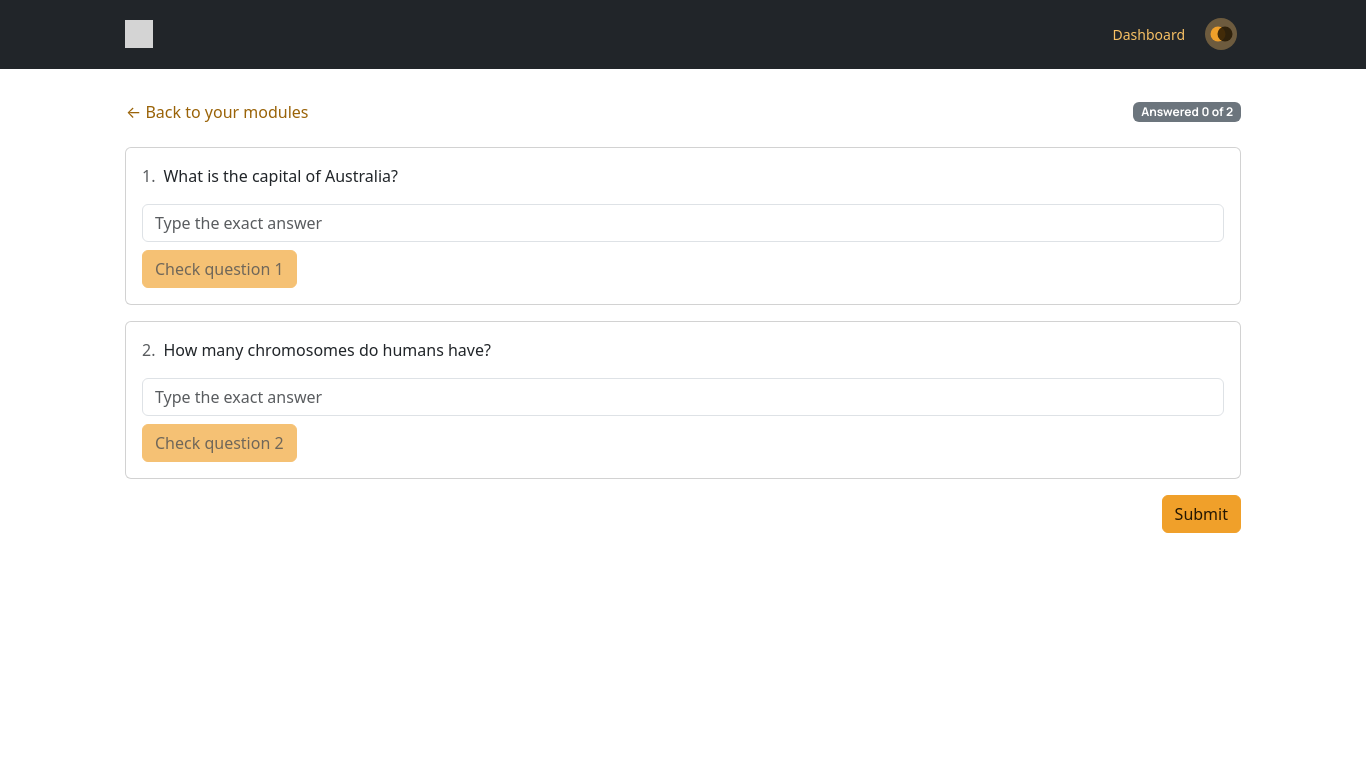
it: scoring an identification run › scores the attempt and locks the page
Expected: the text "What is the capital of Australia?" is shown, [164,165,398,187]
Type "Canberra" into the field named "Answer for question 1" at (683, 223), box [142,204,1224,242]
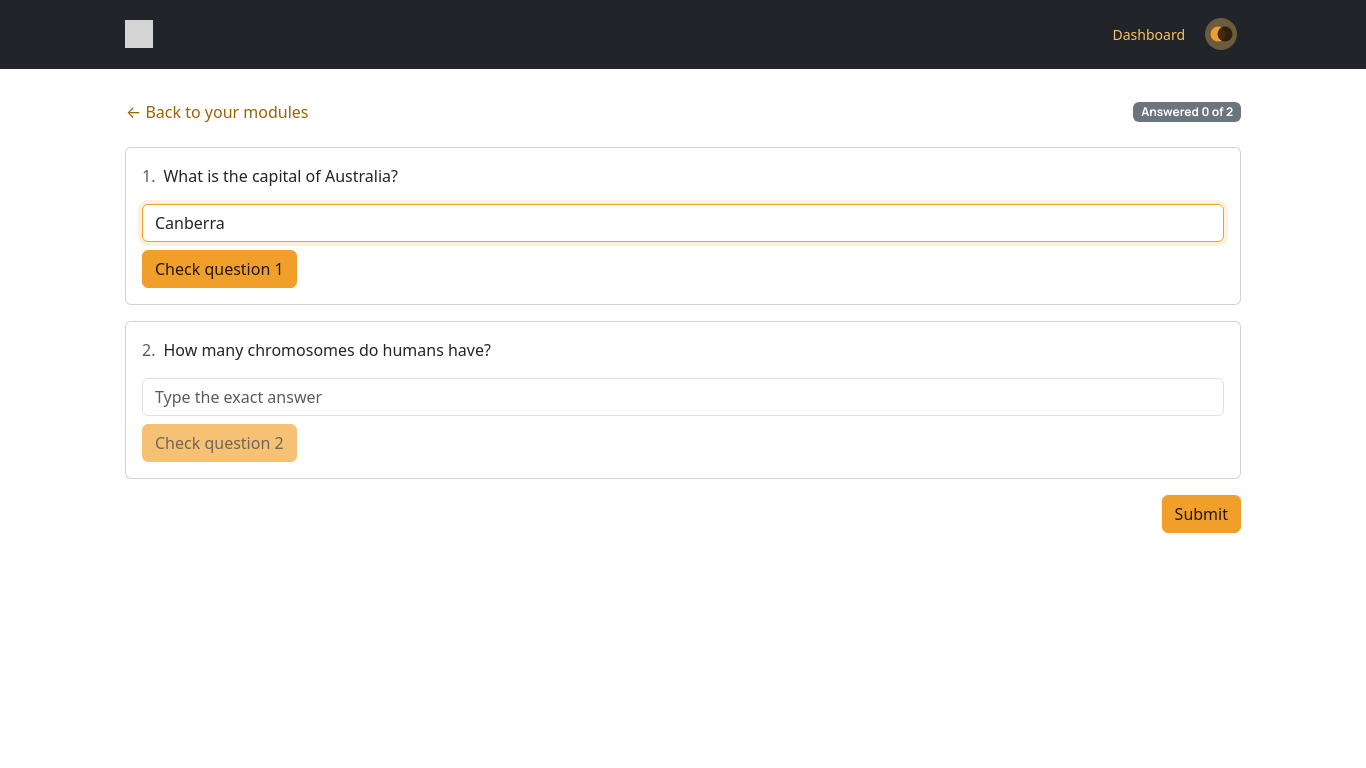
Click the button "Check question 1" at (219, 269), box [142,250,297,288]
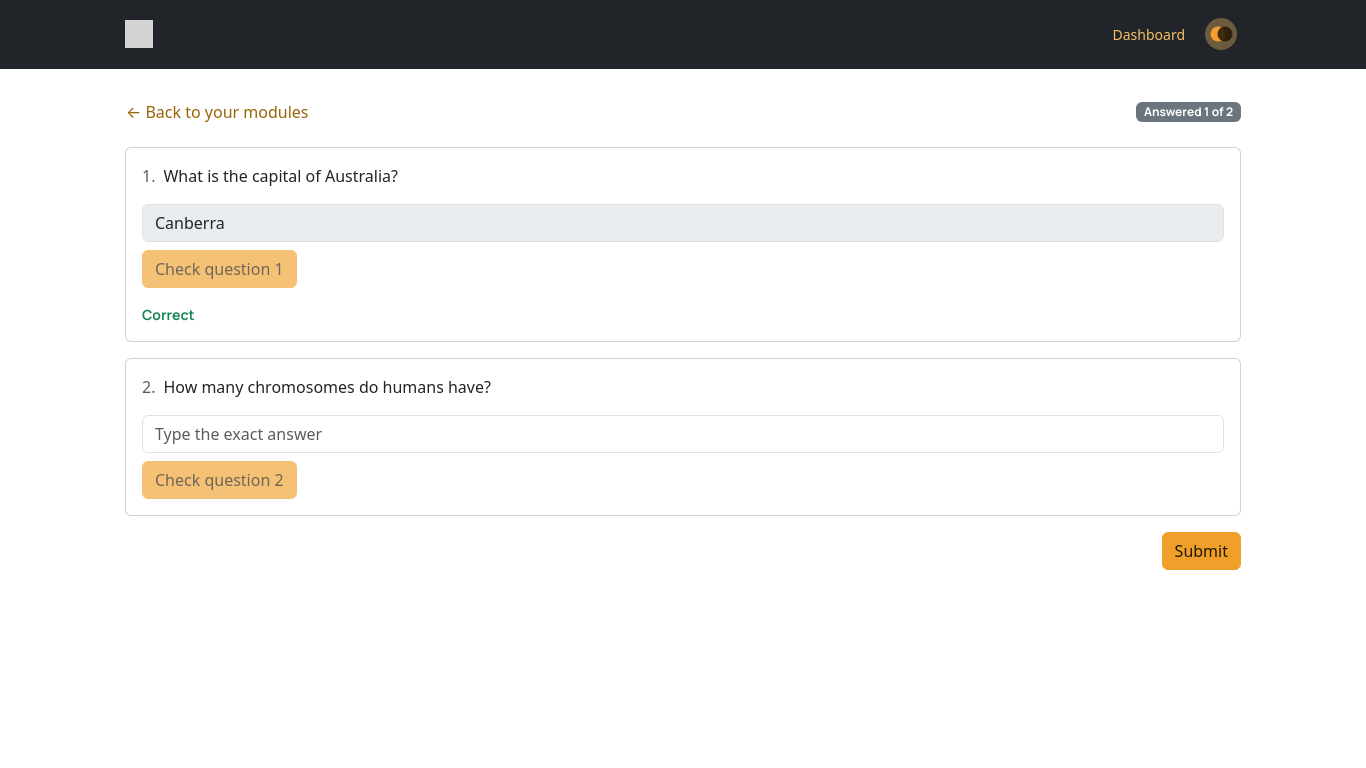
Expected: the text "Correct" is shown, [142,305,195,324]
Click the button "Submit" at (1201, 551), box [1162,532,1241,570]
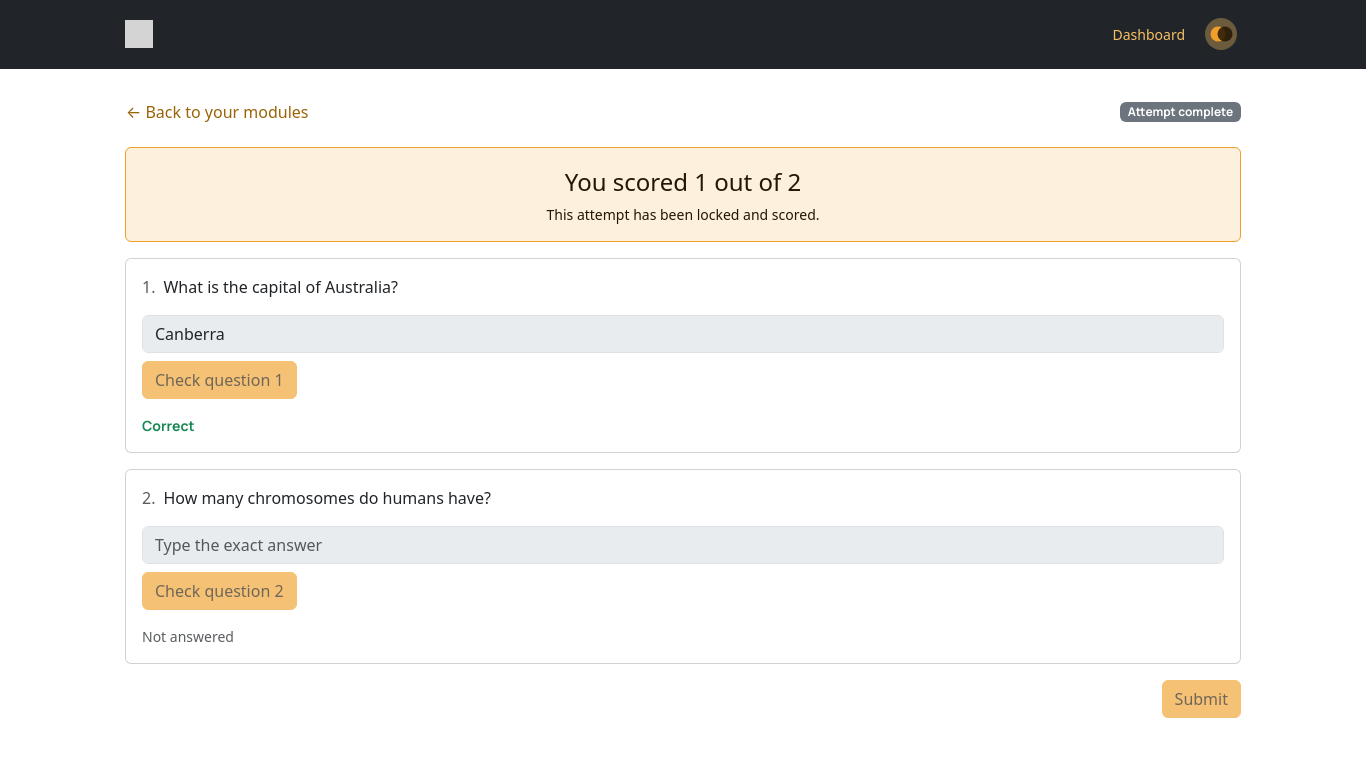
Expected: the text "You scored 1 out of 2" is shown, [565,165,801,198]
Expected: the field named "Answer for question 2" is disabled, [142,526,1224,564]
Expected: the button "Submit" is disabled, [1162,680,1241,718]
